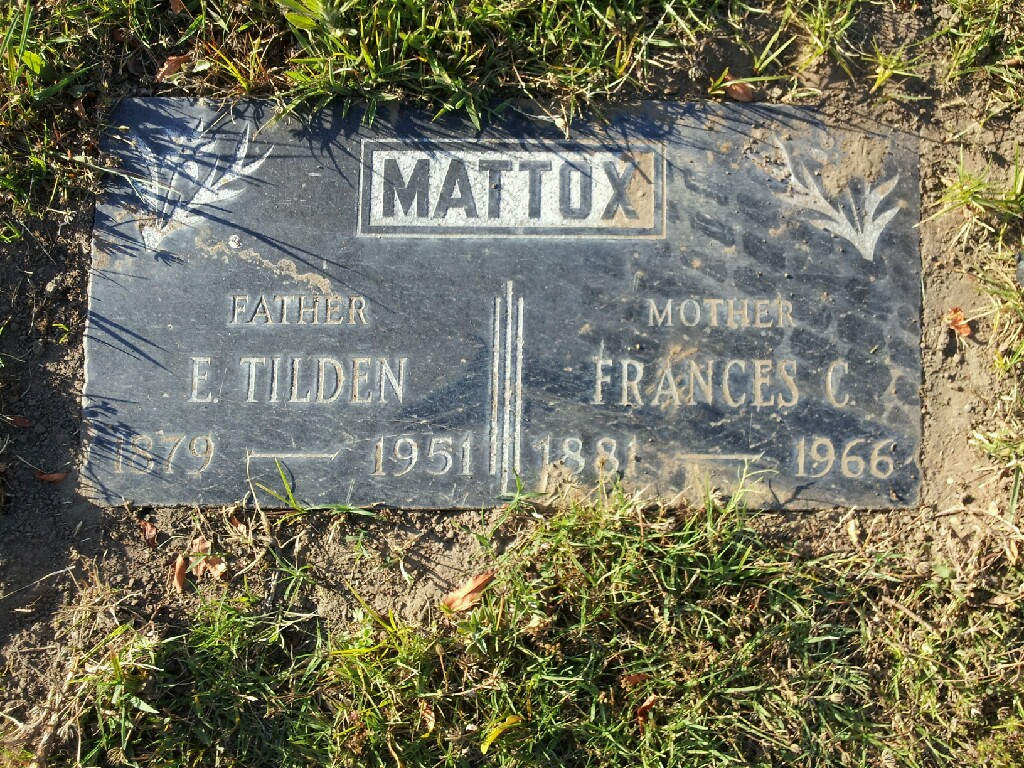flat: (83, 82, 972, 533)
